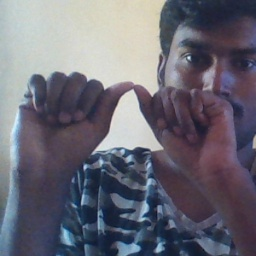A: (49, 64, 211, 172)
